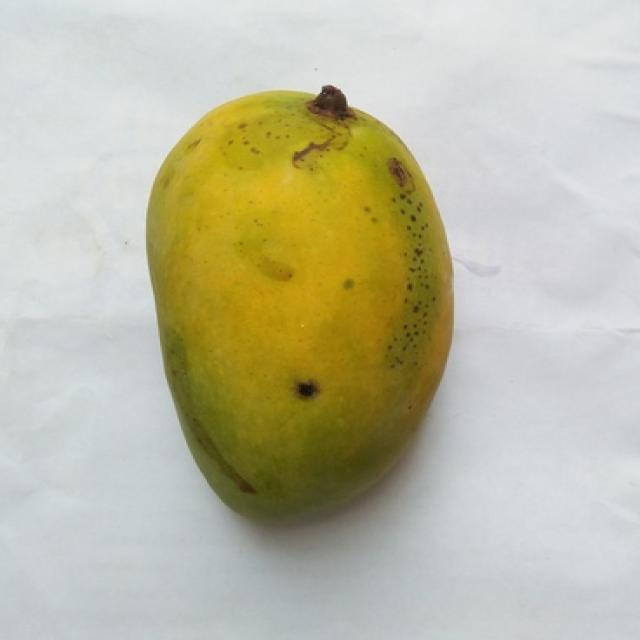Mango: (148, 91, 450, 515)
